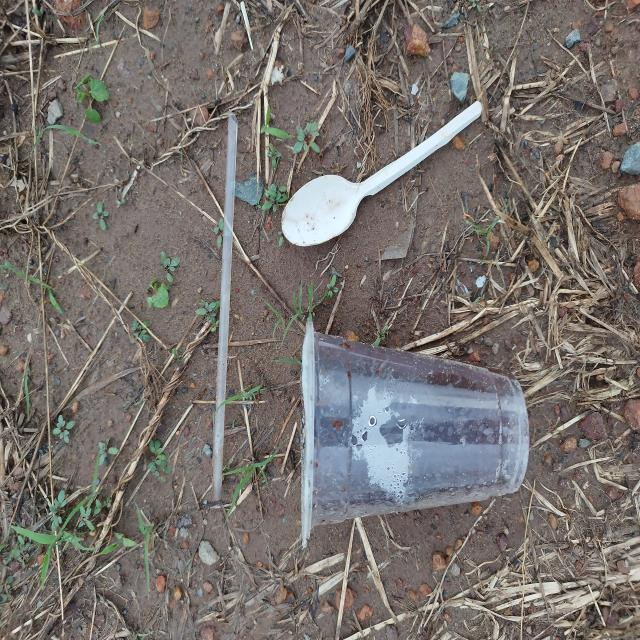drinking straw: (210, 111, 240, 501)
plastic glass: (302, 319, 529, 549)
plastic utensil: (280, 100, 482, 248)
